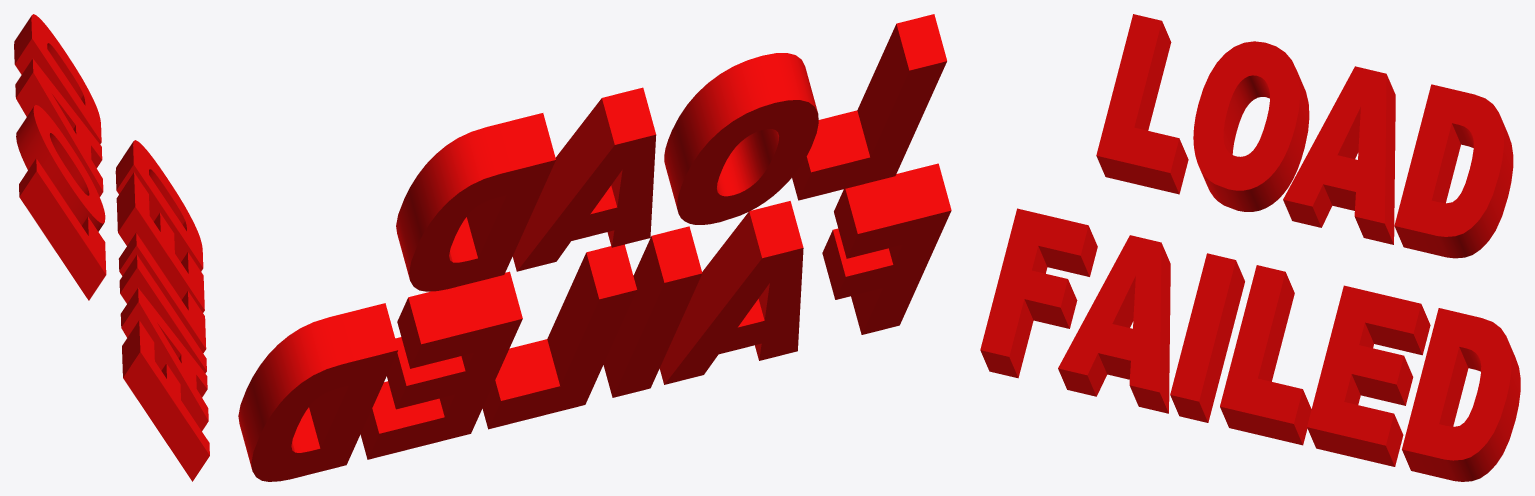
The model's file is fail.dae.
The picture shows the model from 3 angles, left to right: view 1: azimuth 30°, elevation 25°; view 2: azimuth 150°, elevation 25°; view 3: azimuth 270°, elevation 25°; orthographic projection. The views are drawn at different scales.
Parts seen in each view (by area): view 1: fail; view 2: fail; view 3: fail.
Part boxes in pixels (left/top/right/bottom): fail: left=14, top=14, right=209, bottom=481; fail: left=238, top=14, right=951, bottom=481; fail: left=980, top=14, right=1520, bottom=481.
Bounding box in the file's own units: 2.34 × 1.94 × 3.05.
